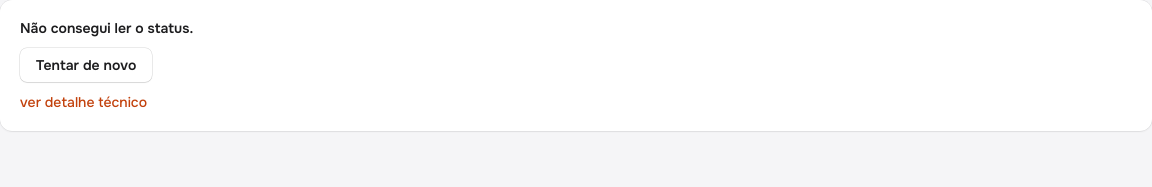
Test: estados desenhados › ErroCarregar: frase, Tentar de novo e detalhe técnico recolhido
Later steps or results of the test are not shown.
Expected: the message shows "Não consegui ler o status.", [20,19,193,37]
Expected: the text "HTTP 500: Traceback" is not shown
Click the button "ver detalhe técnico" at point(84, 102), box [20,92,147,113]
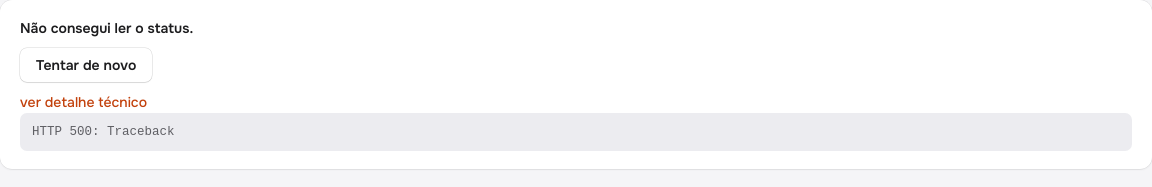
Result: the text "HTTP 500: Traceback" is shown at [20,113,1132,151]
